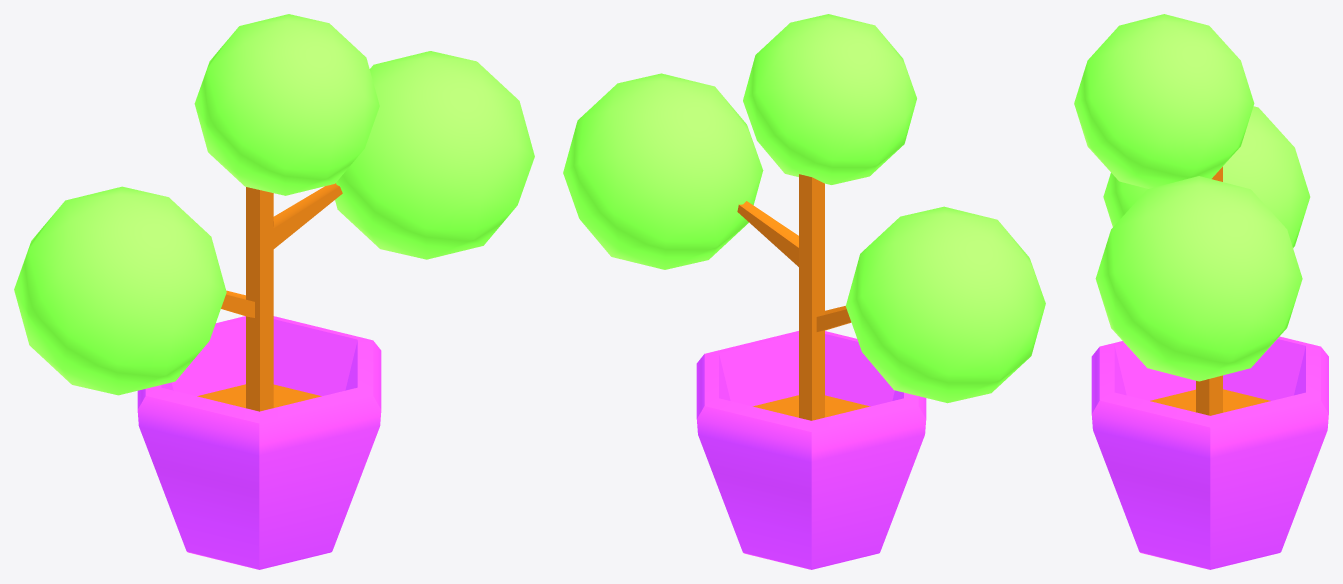
File: Plant1.fbx
3 views of the same model, side by side, from view 1: azimuth 30°, elevation 25°; view 2: azimuth 150°, elevation 25°; view 3: azimuth 270°, elevation 25° (orthographic). The views are drawn at different scales.
Parts seen in each view (by area): view 1: Plant1; view 2: Plant1; view 3: Plant1.
Boxes of the visible parts, x1=… form: Plant1: x1=14, y1=14, x2=534, y2=569; Plant1: x1=563, y1=14, x2=1045, y2=569; Plant1: x1=1074, y1=14, x2=1328, y2=569.
Bounding box in the file's own units: 296 × 307 × 137.
